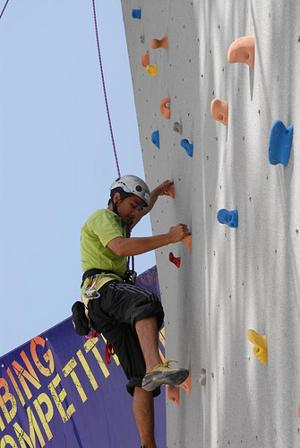person: (71, 171, 191, 446)
